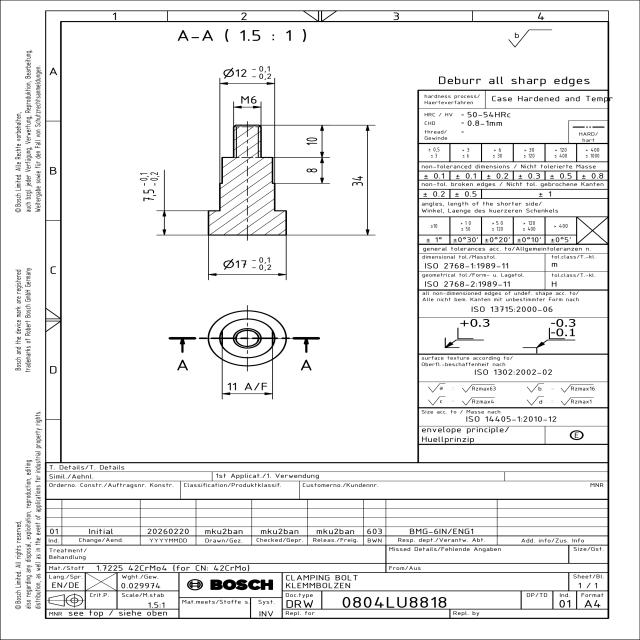dimension: (221, 256, 274, 272), (222, 64, 274, 80), (138, 171, 161, 202), (225, 382, 269, 392), (238, 95, 259, 105), (350, 175, 365, 187), (306, 137, 320, 146), (304, 167, 319, 174)
